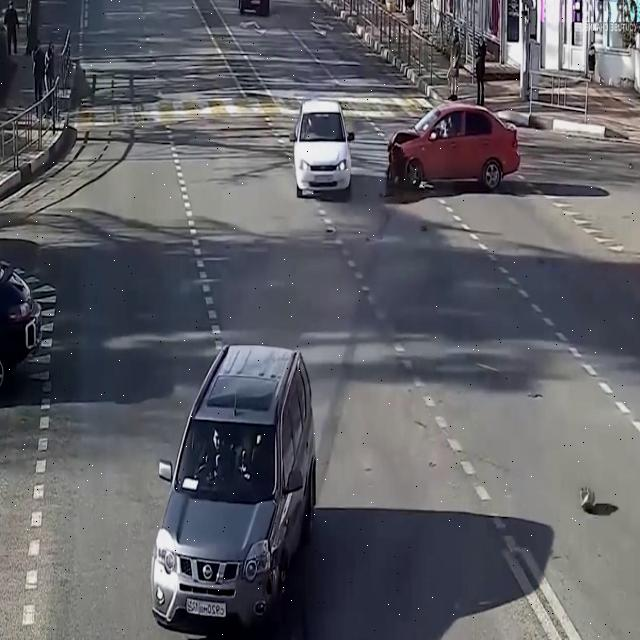accident: (128, 315, 383, 640), (372, 90, 529, 210)
